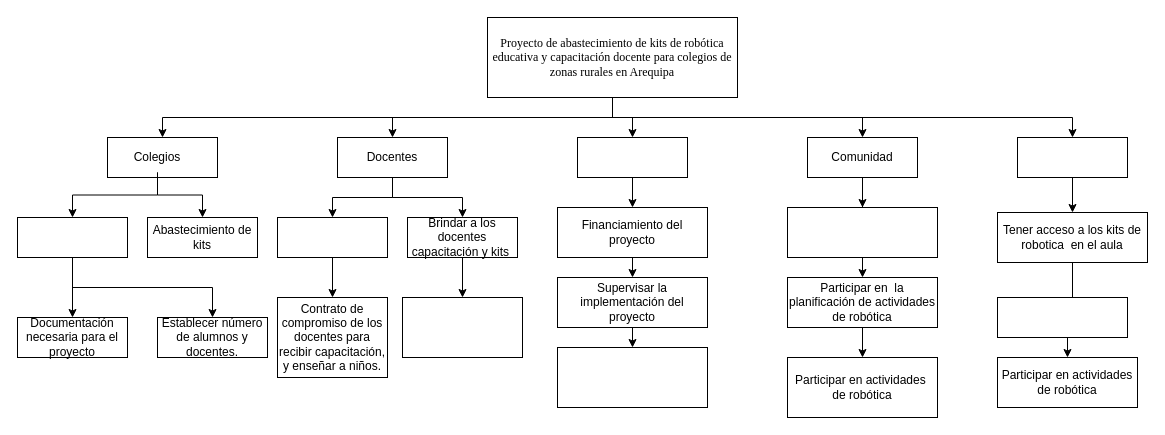
Some shapes in this 1165 by 435 pixel diagram are drawn without their labels. Each missing label, with the box of its shape:
Administrar permisos para lugar fecha y hora de la capacitación: (402, 296, 522, 358)
Alumnos: (1016, 136, 1128, 178)
Desarrollar habilidades de robótica: (996, 296, 1128, 338)
Evaluar el impacto del proyecto: (556, 346, 708, 408)
Gobierno local: (576, 136, 688, 178)
Promover inclusión de la robótica: (786, 206, 938, 258)
Seleccionar docentes para la capacitación: (276, 216, 388, 258)
Selección de colegios rurales.: (16, 216, 128, 258)
